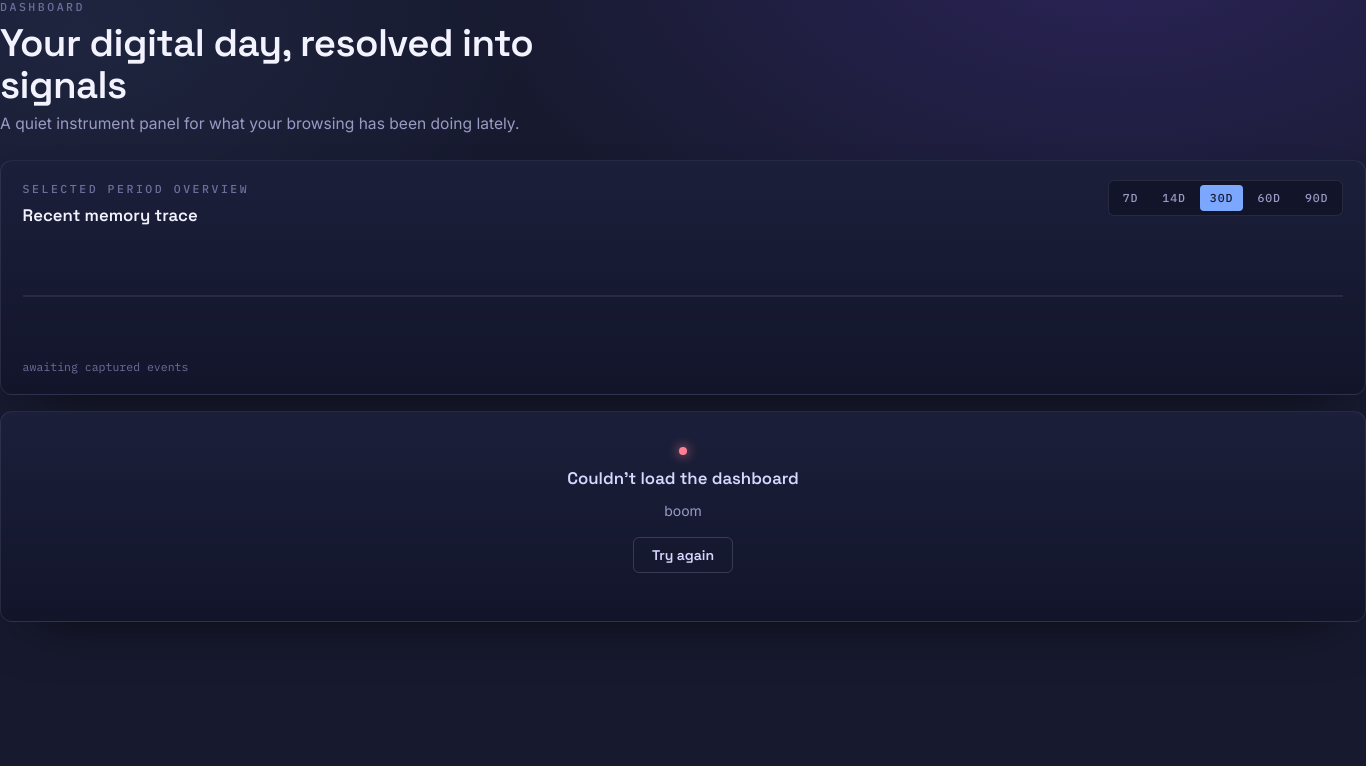
Test: DashboardPage › shows an error state with a retry that refetches
Expected: the text "Couldn't load the dashboard" is shown, [567, 465, 799, 491]
Click the button "Try again" at (683, 555), box [633, 537, 733, 573]
(page scrolled)
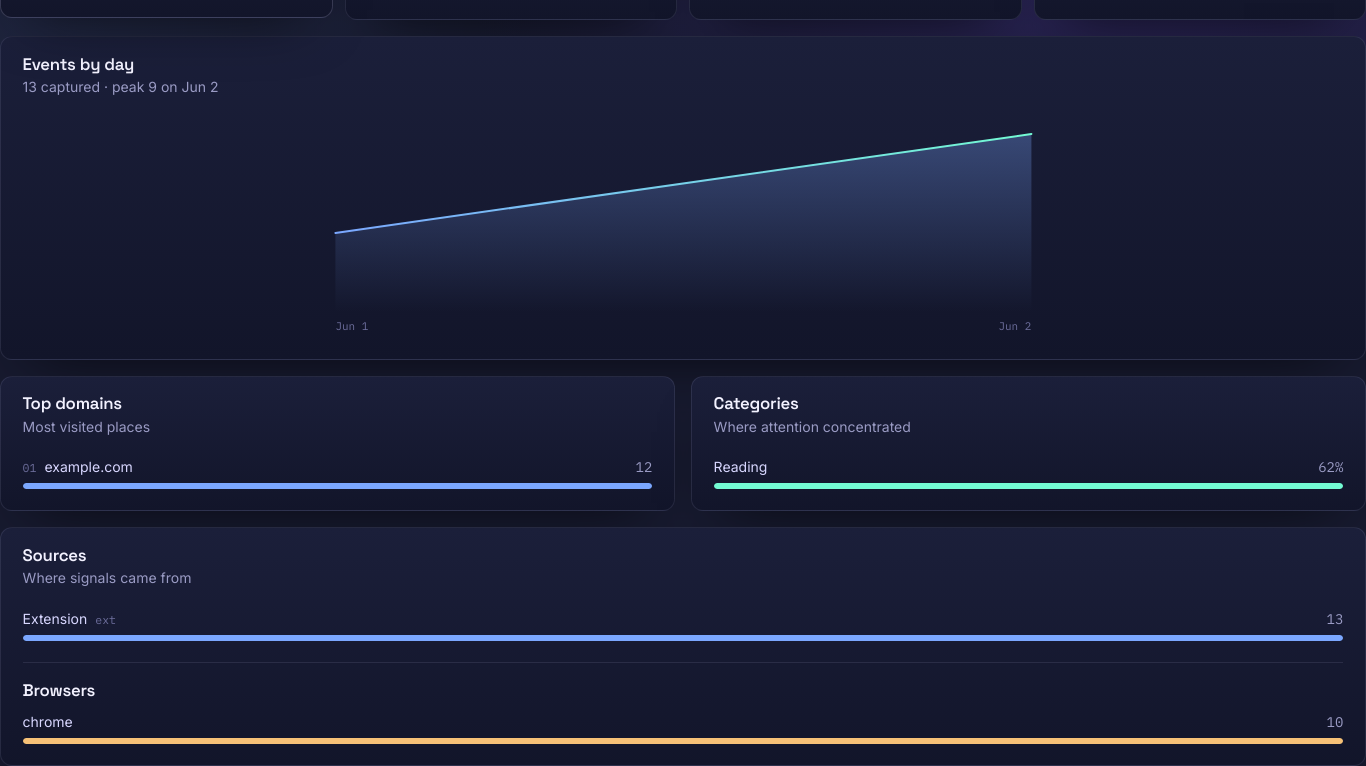
Now the text "example.com" is shown, box [44, 458, 133, 478]
